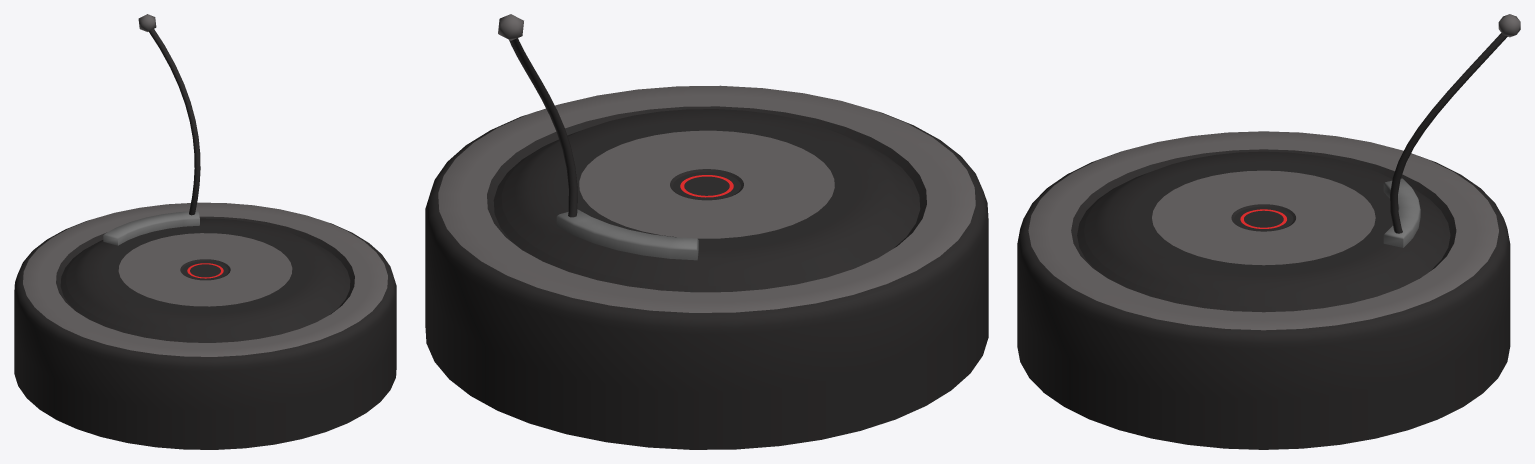
The model's file is Cleaner.fbx.
3 views of the same model, side by side, from view 1: azimuth 30°, elevation 25°; view 2: azimuth 150°, elevation 25°; view 3: azimuth 270°, elevation 25° (orthographic). The views are drawn at different scales.
Parts seen in each view (by area): view 1: Cylinder; view 2: Cylinder; view 3: Cylinder.
Boxes of the visible parts, x1=… form: Cylinder: x1=14, y1=14, x2=396, y2=449; Cylinder: x1=425, y1=14, x2=988, y2=449; Cylinder: x1=1017, y1=14, x2=1520, y2=449.
Bounding box in the file's own units: 145 × 115 × 148.
